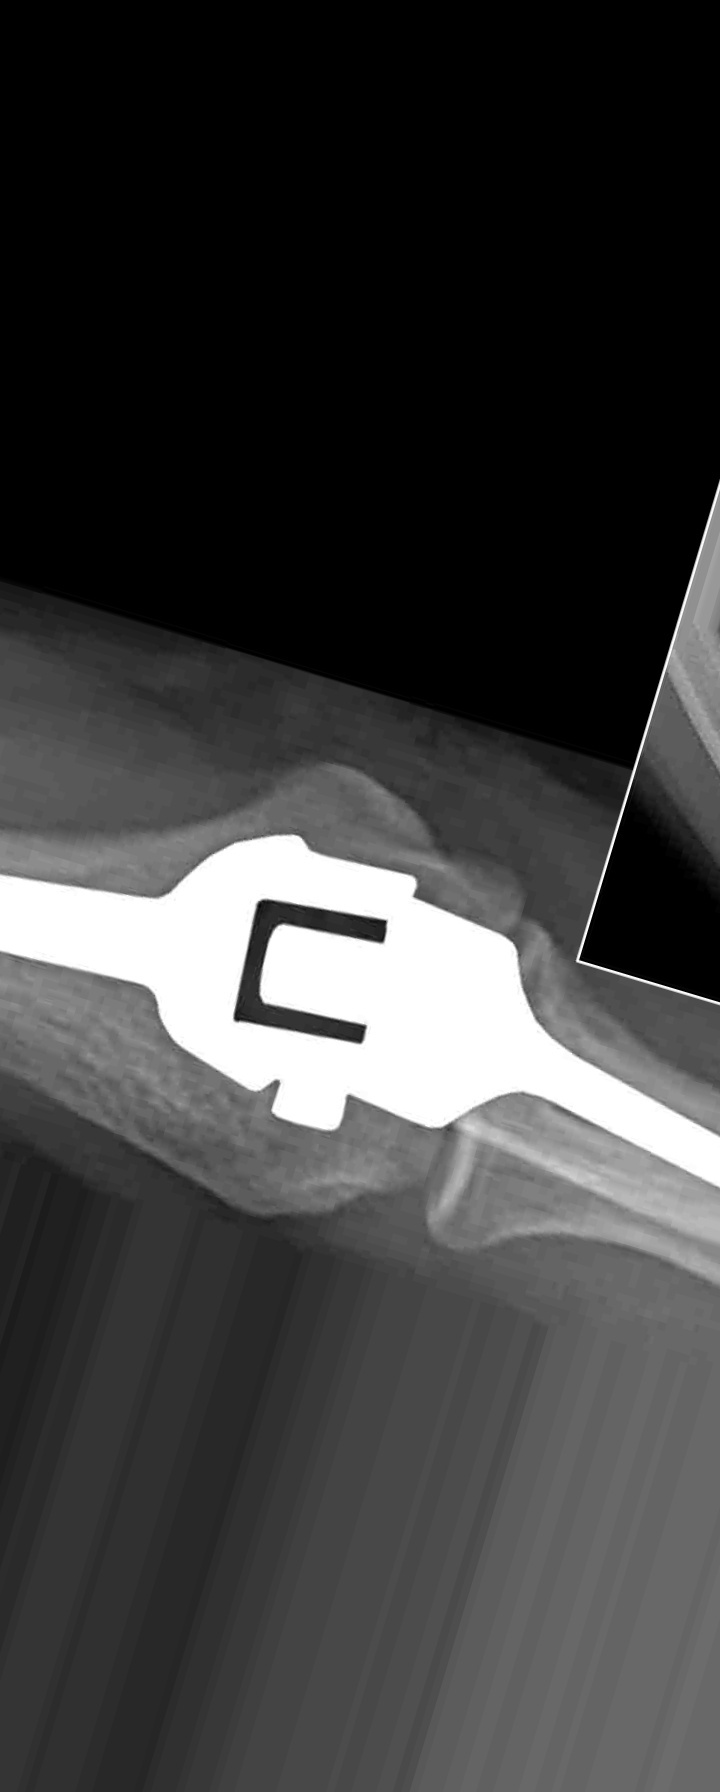Elbow - Osteonics - Stryker: (2, 821, 720, 1222)
